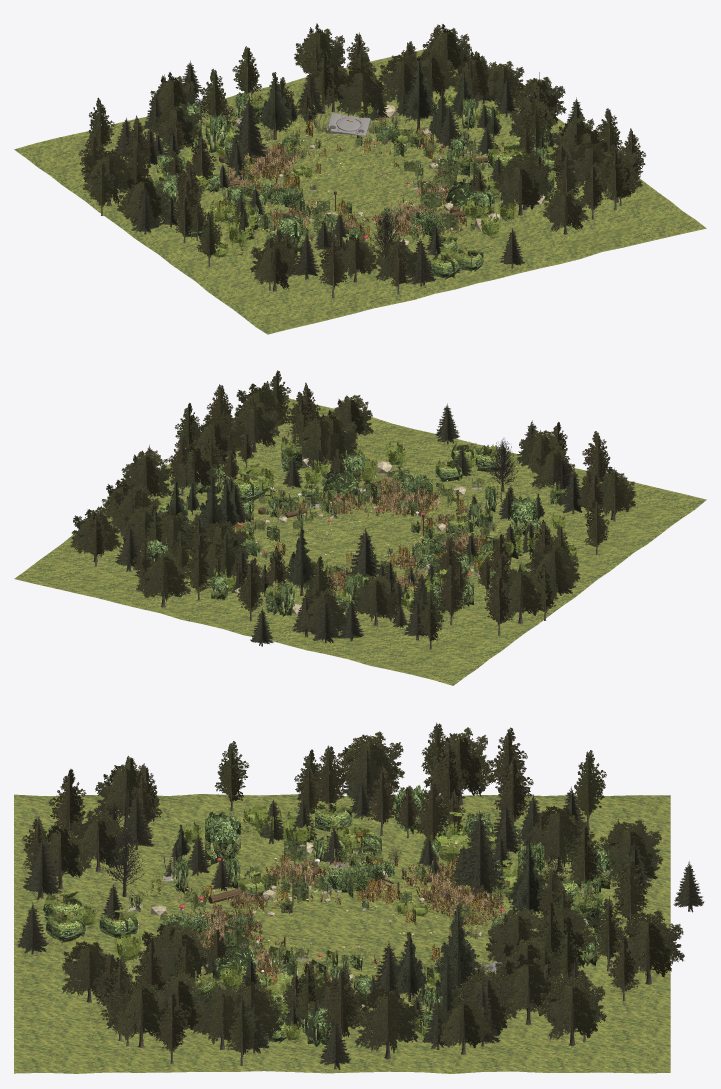
File: forest_biome.glb
3 renders of one model, top to bottom at view 1: azimuth 30°, elevation 25°; view 2: azimuth 150°, elevation 25°; view 3: azimuth 270°, elevation 25°, orthographic. The views are drawn at different scales.
Visible parts, largest first — view 1: Ground_Grass, tree_rt_4_inst.004, tree_rt_4_inst.002, tree_rt_4_inst.011, tree_rt_4_inst.016, tree_rt_4_inst.009, tree_rt_4_inst.013, tree_rt_4_inst.003, tree_rt_4_inst.008, tree_rt_4_inst.006, tree_rt_1_inst, tree_rt_4_inst.018 (+51 smaller); view 2: Ground_Grass, tree_rt_4_inst.008, tree_rt_4_inst.009, tree_rt_4_inst.010, tree_rt_4_inst.006, tree_rt_4_inst.016, tree_rt_4_inst.023, tree_rt_4_inst.020, tree_rt_4_inst.018, tree_rt_4_inst.005, tree_rt_4_inst, tree_rt_4_inst.007 (+52 smaller); view 3: Ground_Grass, tree_rt_4_inst.018, tree_rt_4_inst.010, tree_rt_4_inst.008, tree_rt_4_inst.016, tree_rt_4_inst.012, tree_rt_4_inst.009, tree_rt_3_inst.002, tree_rt_4_inst.007, tree_rt_4_inst.022, tree_rt_4_inst.015, tree_rt_4_inst.017 (+81 smaller).
Part boxes in pixels (x1,y1,x2,y2): Ground_Grass: (14, 49, 706, 334); tree_rt_4_inst.004: (493, 159, 547, 215); tree_rt_4_inst.002: (336, 67, 389, 117); tree_rt_4_inst.011: (250, 239, 299, 291); tree_rt_4_inst.016: (117, 173, 171, 231); tree_rt_4_inst.009: (83, 147, 135, 206); tree_rt_4_inst.013: (543, 185, 588, 234); tree_rt_4_inst.003: (378, 54, 428, 104); tree_rt_4_inst.008: (294, 23, 345, 71); tree_rt_4_inst.006: (152, 103, 201, 148); tree_rt_1_inst: (401, 57, 437, 130); tree_rt_4_inst.018: (422, 24, 471, 73); Ground_Grass: (14, 398, 706, 685); tree_rt_4_inst.008: (136, 549, 190, 607); tree_rt_4_inst.009: (493, 564, 547, 623); tree_rt_4_inst.010: (120, 450, 171, 497); tree_rt_4_inst.006: (352, 575, 398, 625); tree_rt_4_inst.016: (530, 540, 580, 597); tree_rt_4_inst.023: (233, 397, 280, 452); tree_rt_4_inst.020: (189, 414, 240, 464); tree_rt_4_inst.018: (70, 506, 121, 562); tree_rt_4_inst.005: (294, 410, 345, 467); tree_rt_4_inst: (170, 446, 218, 496); tree_rt_4_inst.007: (300, 587, 347, 639); Ground_Grass: (14, 794, 670, 1073); tree_rt_4_inst.018: (537, 974, 606, 1046); tree_rt_4_inst.010: (355, 987, 421, 1059); tree_rt_4_inst.008: (613, 910, 684, 984); tree_rt_4_inst.016: (336, 731, 404, 801); tree_rt_4_inst.012: (106, 974, 169, 1047); tree_rt_4_inst.009: (423, 727, 496, 805); tree_rt_3_inst.002: (454, 810, 506, 895); tree_rt_4_inst.007: (600, 819, 663, 881); tree_rt_4_inst.022: (497, 954, 559, 1024); tree_rt_4_inst.015: (434, 993, 491, 1054); tree_rt_4_inst.017: (70, 810, 127, 872).
Size of the model in its own units: 41.85 by 7.21 by 42.22.
35 materials, 27 textured.
